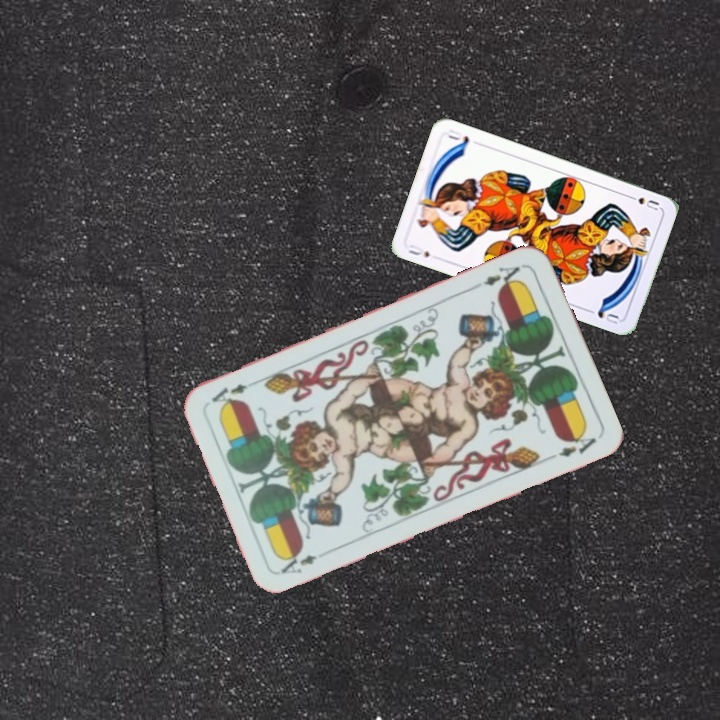EA: (479, 260, 526, 293), (277, 547, 320, 577)
SU: (623, 191, 662, 213), (404, 240, 432, 260)
